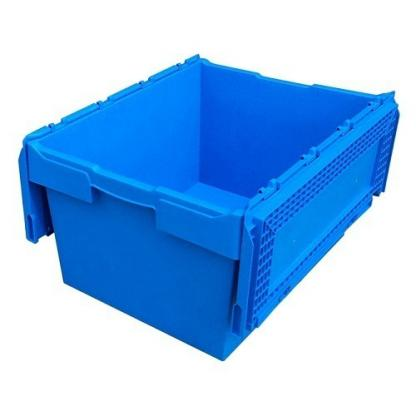plastic_box: (9, 21, 415, 373)
